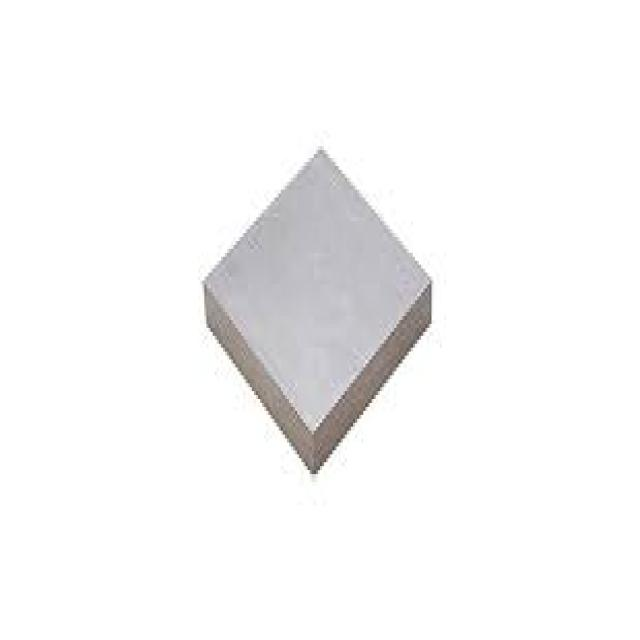Milling: (161, 108, 449, 483)
